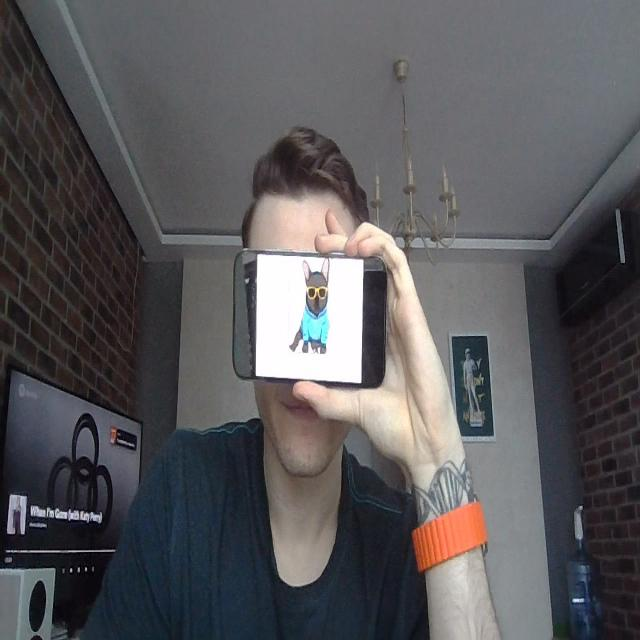device: (227, 240, 391, 396)
